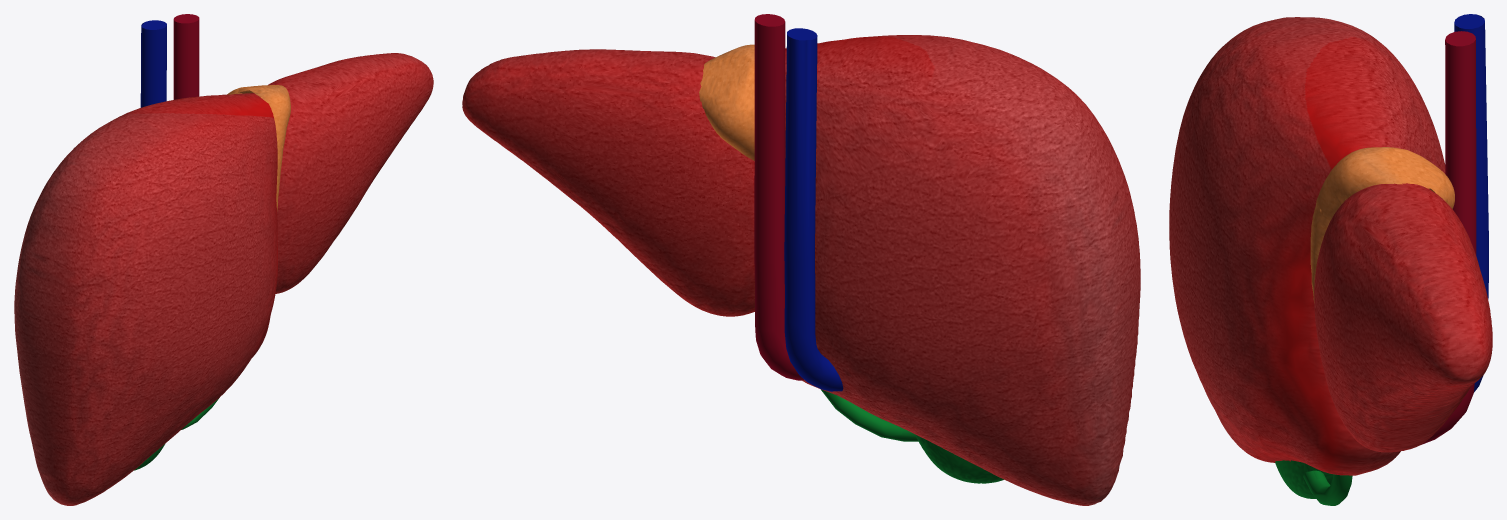
Rendered from liver.glb.
3 views of the same model, side by side, from view 1: azimuth 30°, elevation 25°; view 2: azimuth 150°, elevation 25°; view 3: azimuth 270°, elevation 25° (orthographic). The views are drawn at different scales.
Visible parts, largest first — view 1: Object_5; view 2: Object_5; view 3: Object_5.
Boxes of the visible parts, x1,y1,x2,y2 form: Object_5: (14,14,433,505); Object_5: (462,14,1140,505); Object_5: (1169,14,1492,505).
Bounding box in the file's own units: 1.96 × 1.57 × 0.8559.
Materials: 7 (7 with a texture image).
